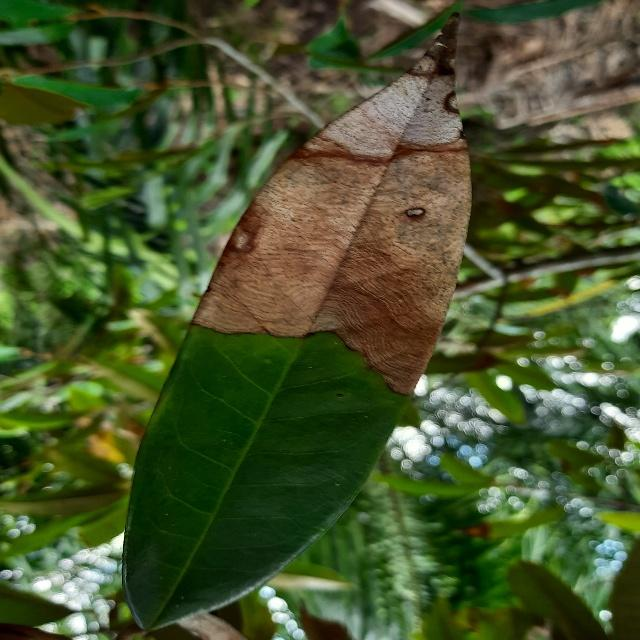Leaf Blight: (115, 9, 482, 640)
